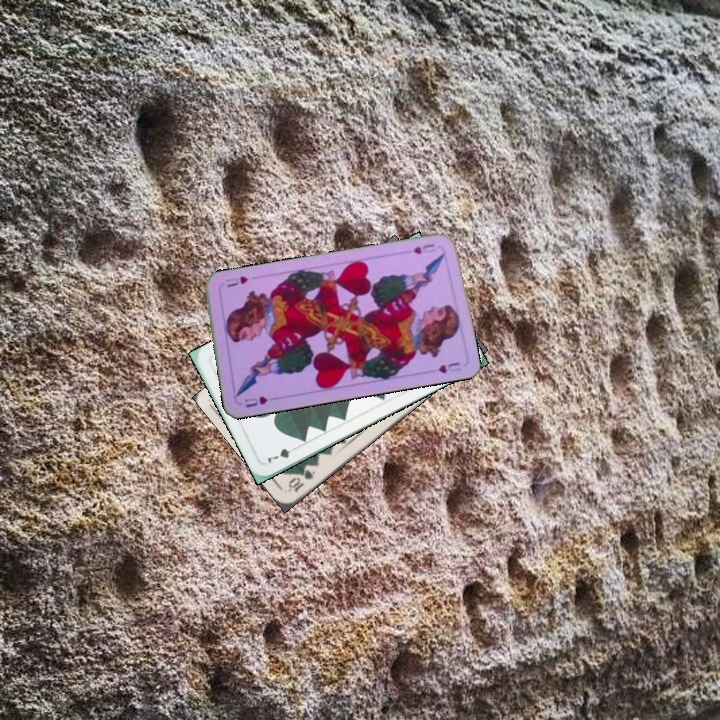G10: (284, 465, 318, 495)
G7: (263, 442, 301, 466)
HU: (240, 392, 278, 410), (409, 240, 438, 256)
